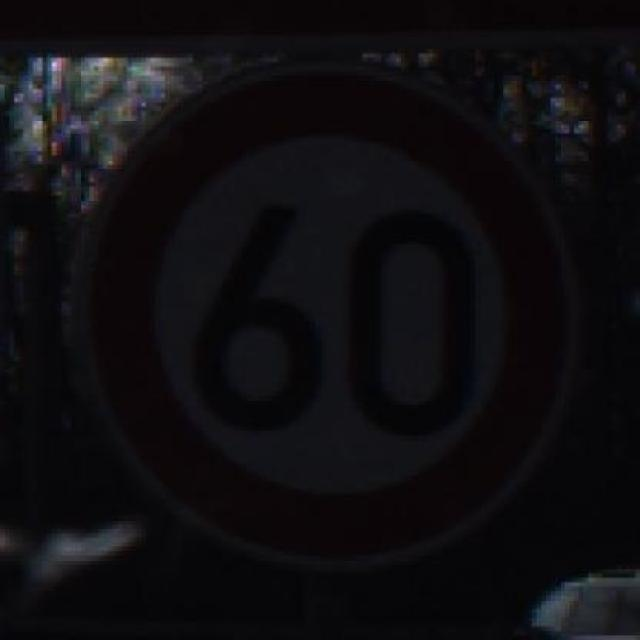forb_speed_over_60: (89, 69, 578, 557)
